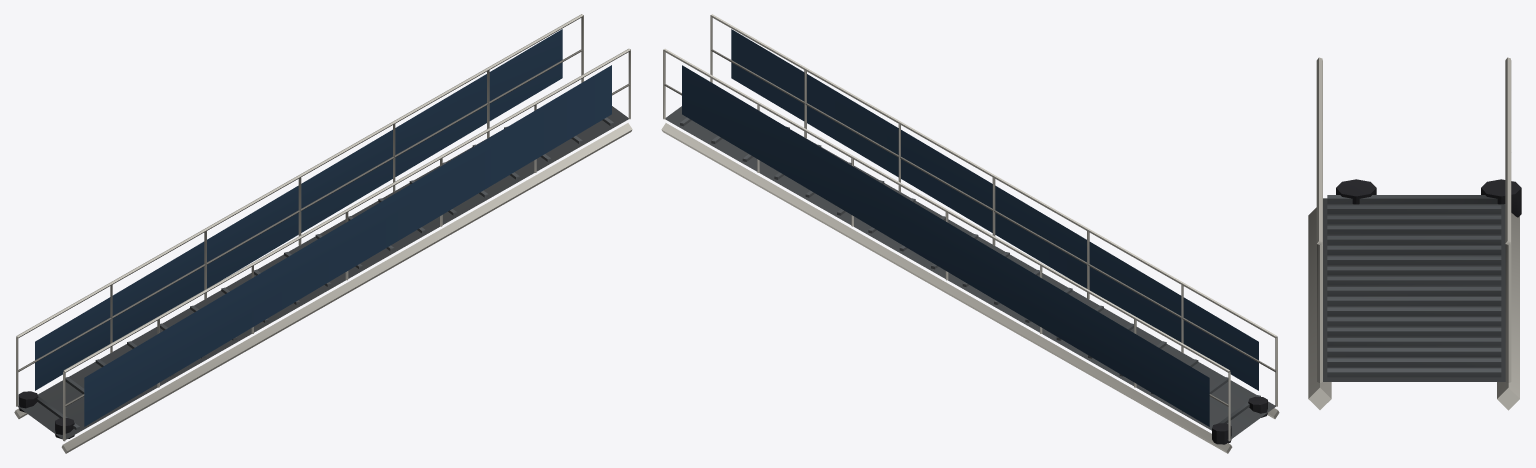
File: gangway.glb
The picture shows the model from 3 angles, left to right: view 1: azimuth 30°, elevation 25°; view 2: azimuth 150°, elevation 25°; view 3: azimuth 270°, elevation 25°; orthographic projection. The views are drawn at different scales.
Parts seen in each view (by area): view 1: gangway_mesh; view 2: gangway_mesh; view 3: gangway_mesh.
Part boxes in pixels (box(x1,y1,x2,y2)): gangway_mesh: box(14, 14, 632, 453); gangway_mesh: box(661, 14, 1279, 453); gangway_mesh: box(1308, 57, 1521, 410).
Size of the model in its own units: 9.05 by 4.08 by 1.47.
